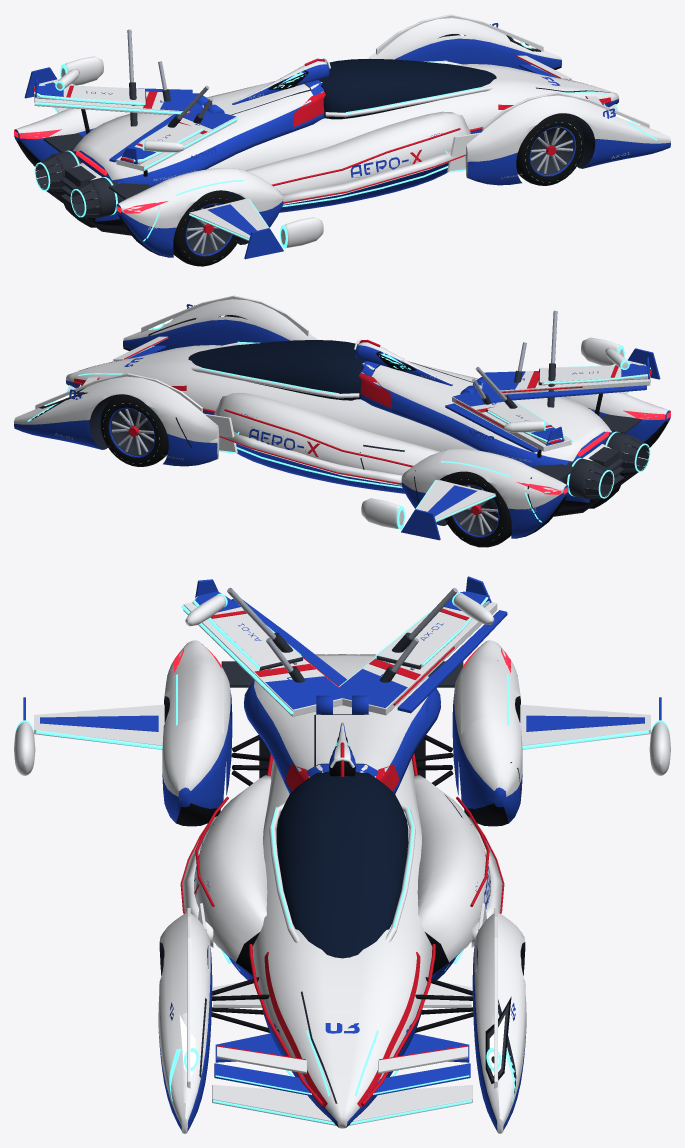
The model's file is aero.glb.
3 renders of one model, top to bottom at view 1: azimuth 30°, elevation 25°; view 2: azimuth 150°, elevation 25°; view 3: azimuth 270°, elevation 25°, orthographic. The views are drawn at different scales.
Parts seen in each view (by area): view 1: body, boost_show, wheel_FL_spin, wheel_RL_spin, rig_ax_blade_pivot_mesh, rig_ax_blade_ext_mesh, rig_ax_blade_pivot_001_mesh, rig_ax_blade_ext_001_mesh, decals; view 2: body, boost_show, wheel_FR_spin, wheel_RR_spin, rig_ax_blade_pivot_001_mesh, rig_ax_blade_pivot_mesh, rig_ax_blade_ext_001_mesh, rig_ax_blade_ext_mesh, decals; view 3: body, boost_show, rig_ax_blade_pivot_mesh, rig_ax_blade_pivot_001_mesh, rig_ax_blade_ext_001_mesh, rig_ax_blade_ext_mesh.
Part boxes in pixels (x1,y1,x2,y2): body: [14, 14, 670, 257]; boost_show: [24, 29, 323, 259]; wheel_FL_spin: [516, 113, 584, 185]; wheel_RL_spin: [173, 190, 239, 266]; rig_ax_blade_pivot_mesh: [34, 88, 203, 115]; rig_ax_blade_ext_mesh: [33, 69, 146, 105]; rig_ax_blade_pivot_001_mesh: [109, 108, 238, 171]; rig_ax_blade_ext_001_mesh: [120, 123, 203, 164]; decals: [147, 23, 629, 230]; body: [14, 295, 670, 538]; boost_show: [361, 310, 660, 540]; wheel_FR_spin: [100, 394, 168, 466]; wheel_RR_spin: [445, 471, 511, 547]; rig_ax_blade_pivot_001_mesh: [481, 367, 650, 400]; rig_ax_blade_pivot_mesh: [445, 389, 572, 452]; rig_ax_blade_ext_001_mesh: [538, 348, 651, 385]; rig_ax_blade_ext_mesh: [486, 401, 564, 445]; decals: [55, 304, 536, 511]; body: [158, 640, 526, 1133]; boost_show: [14, 587, 670, 775]; rig_ax_blade_pivot_mesh: [338, 600, 507, 715]; rig_ax_blade_pivot_001_mesh: [181, 594, 346, 716]; rig_ax_blade_ext_001_mesh: [185, 579, 303, 670]; rig_ax_blade_ext_mesh: [375, 576, 494, 669].
Bounding box in the file's own units: 5.5 × 1.55 × 3.88.
16 materials, 1 textured.
